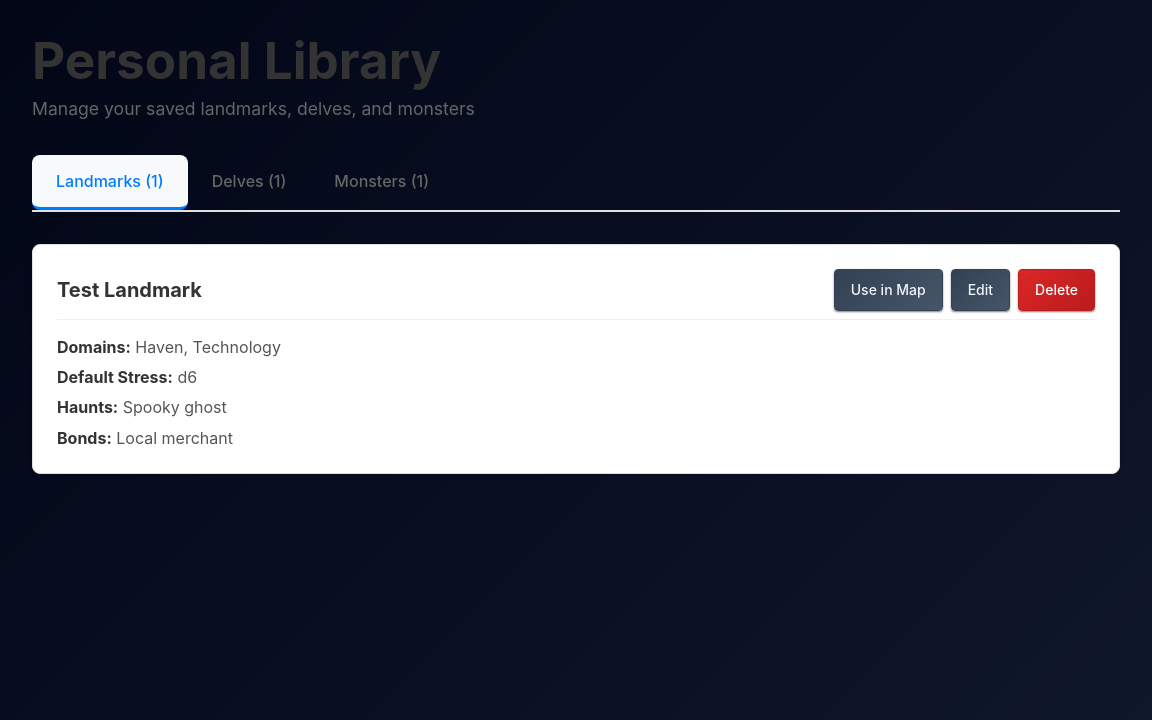
LibraryPage › handles tab switching correctly
The width and height of the screenshot is (1152, 720).
Check: the heading "Test Landmark" is shown, box [57, 275, 202, 305]
// Switch to delves
Click the button "Delves (1)": (249, 182) [188, 155, 310, 210]
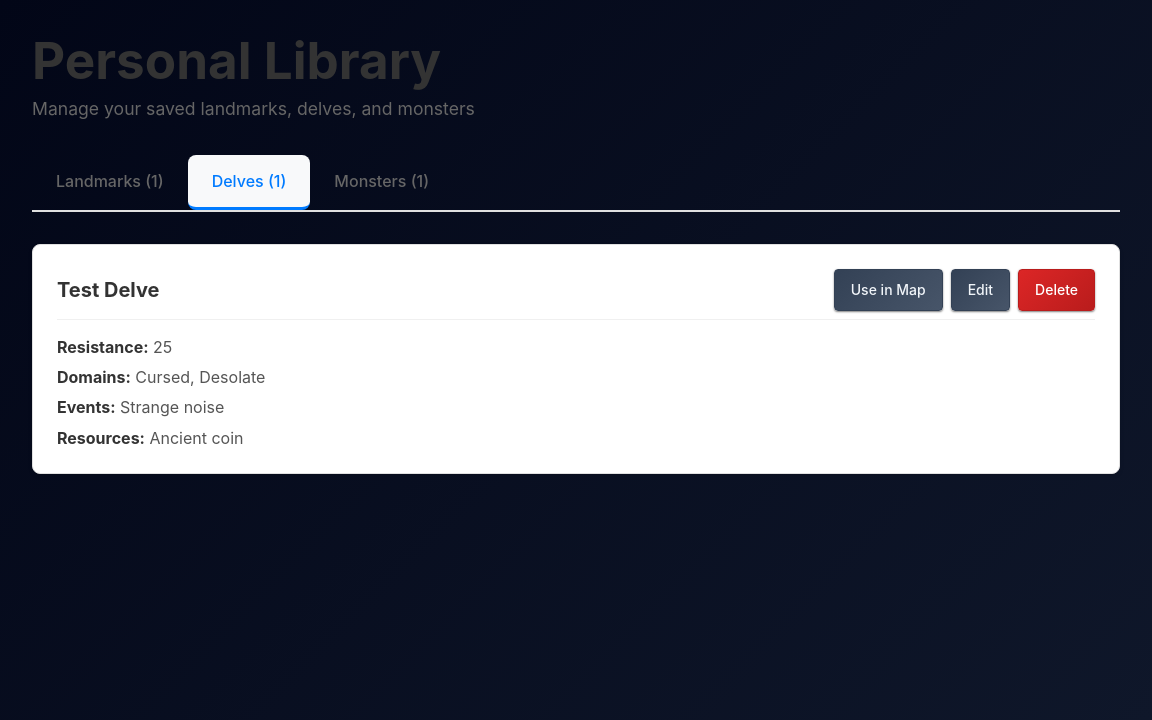
Check: the heading "Test Delve" is shown, box [57, 275, 160, 305]
Check: the heading "Test Landmark" is gone
// Switch to monsters
Click the button "Monsters (1)": (382, 182) [310, 155, 453, 210]
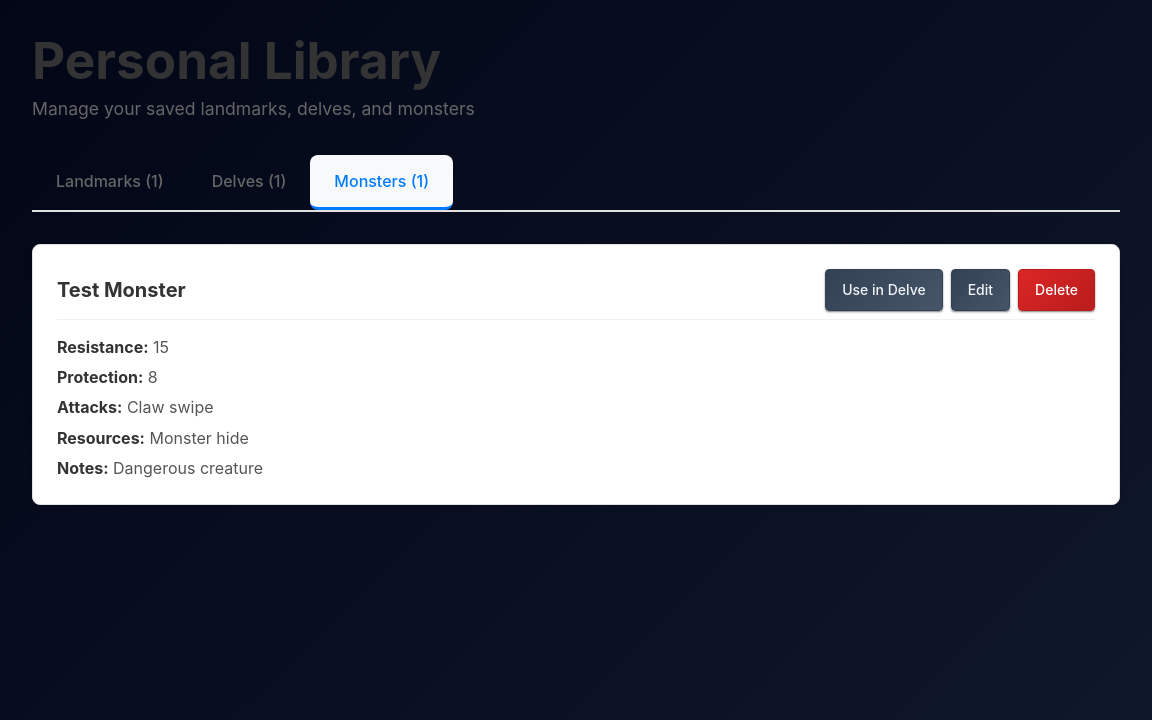
Check: the heading "Test Monster" is shown, box [57, 275, 186, 305]
Check: the heading "Test Delve" is gone
// Switch back to landmarks
Click the button "Landmarks (1)": (110, 182) [32, 155, 188, 210]
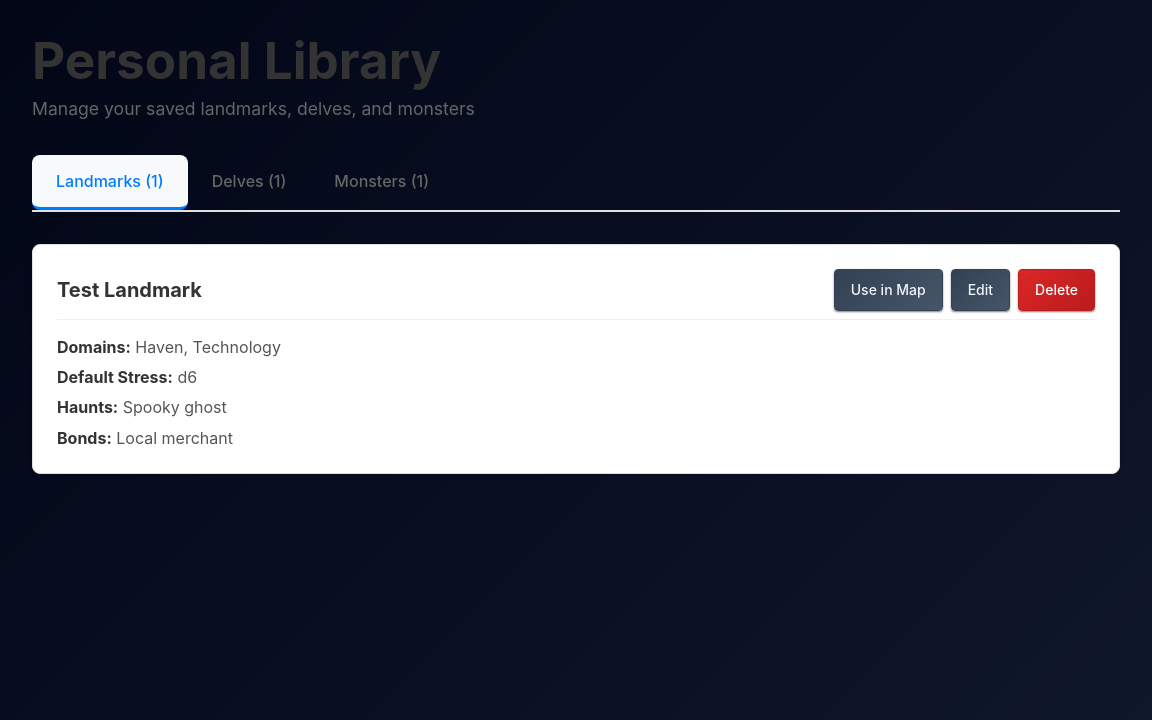
Check: the heading "Test Landmark" is shown, box [57, 275, 202, 305]
Check: the heading "Test Monster" is gone
